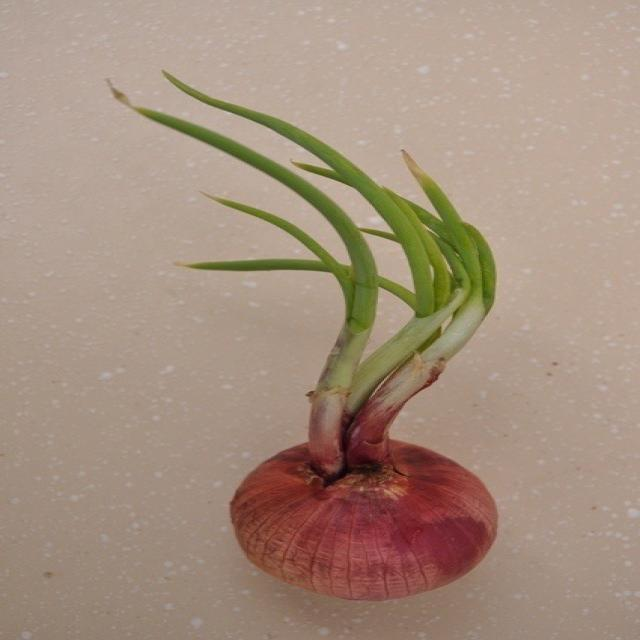sprouting: (75, 23, 538, 597)
